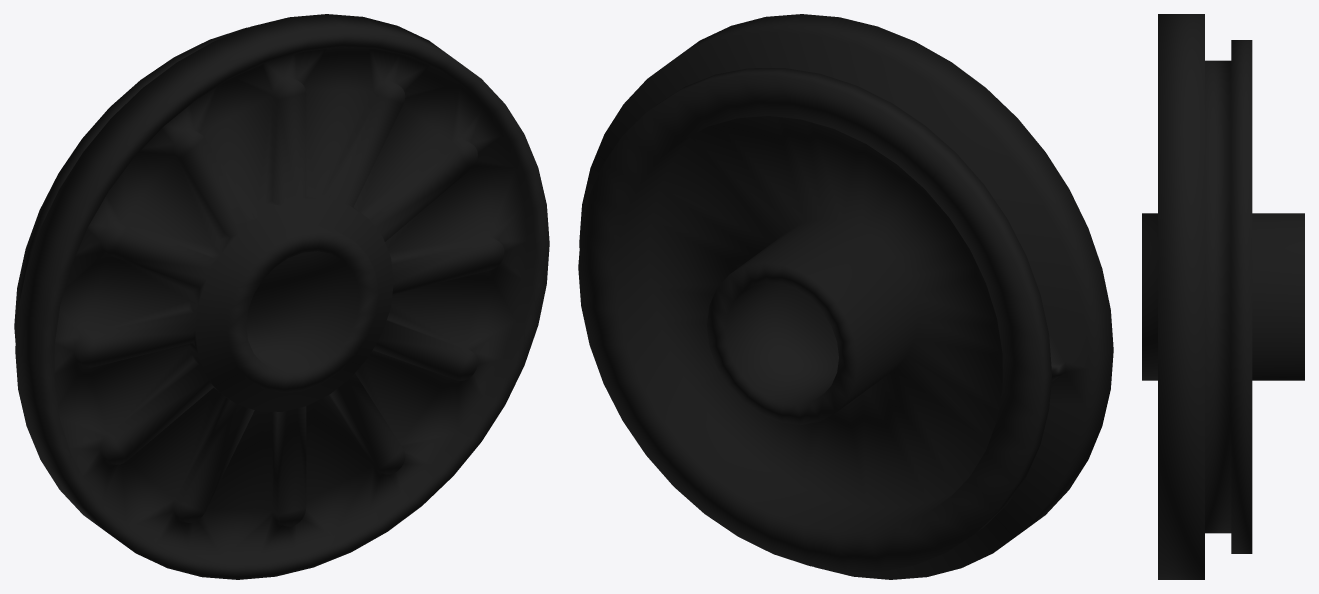
The model's file is MotorGrill.obj.
3 views of the same model, side by side, from view 1: azimuth 30°, elevation 25°; view 2: azimuth 150°, elevation 25°; view 3: azimuth 270°, elevation 25° (orthographic). The views are drawn at different scales.
Visible parts, largest first — view 1: MotorGrill; view 2: MotorGrill; view 3: MotorGrill.
Part boxes in pixels (left/top/right/bottom): MotorGrill: left=14, top=14, right=549, bottom=579; MotorGrill: left=578, top=14, right=1113, bottom=579; MotorGrill: left=1142, top=14, right=1304, bottom=579.
Size of the model in its own units: 0.054 by 0.0538 by 0.0155.
1 material, 1 textured.
